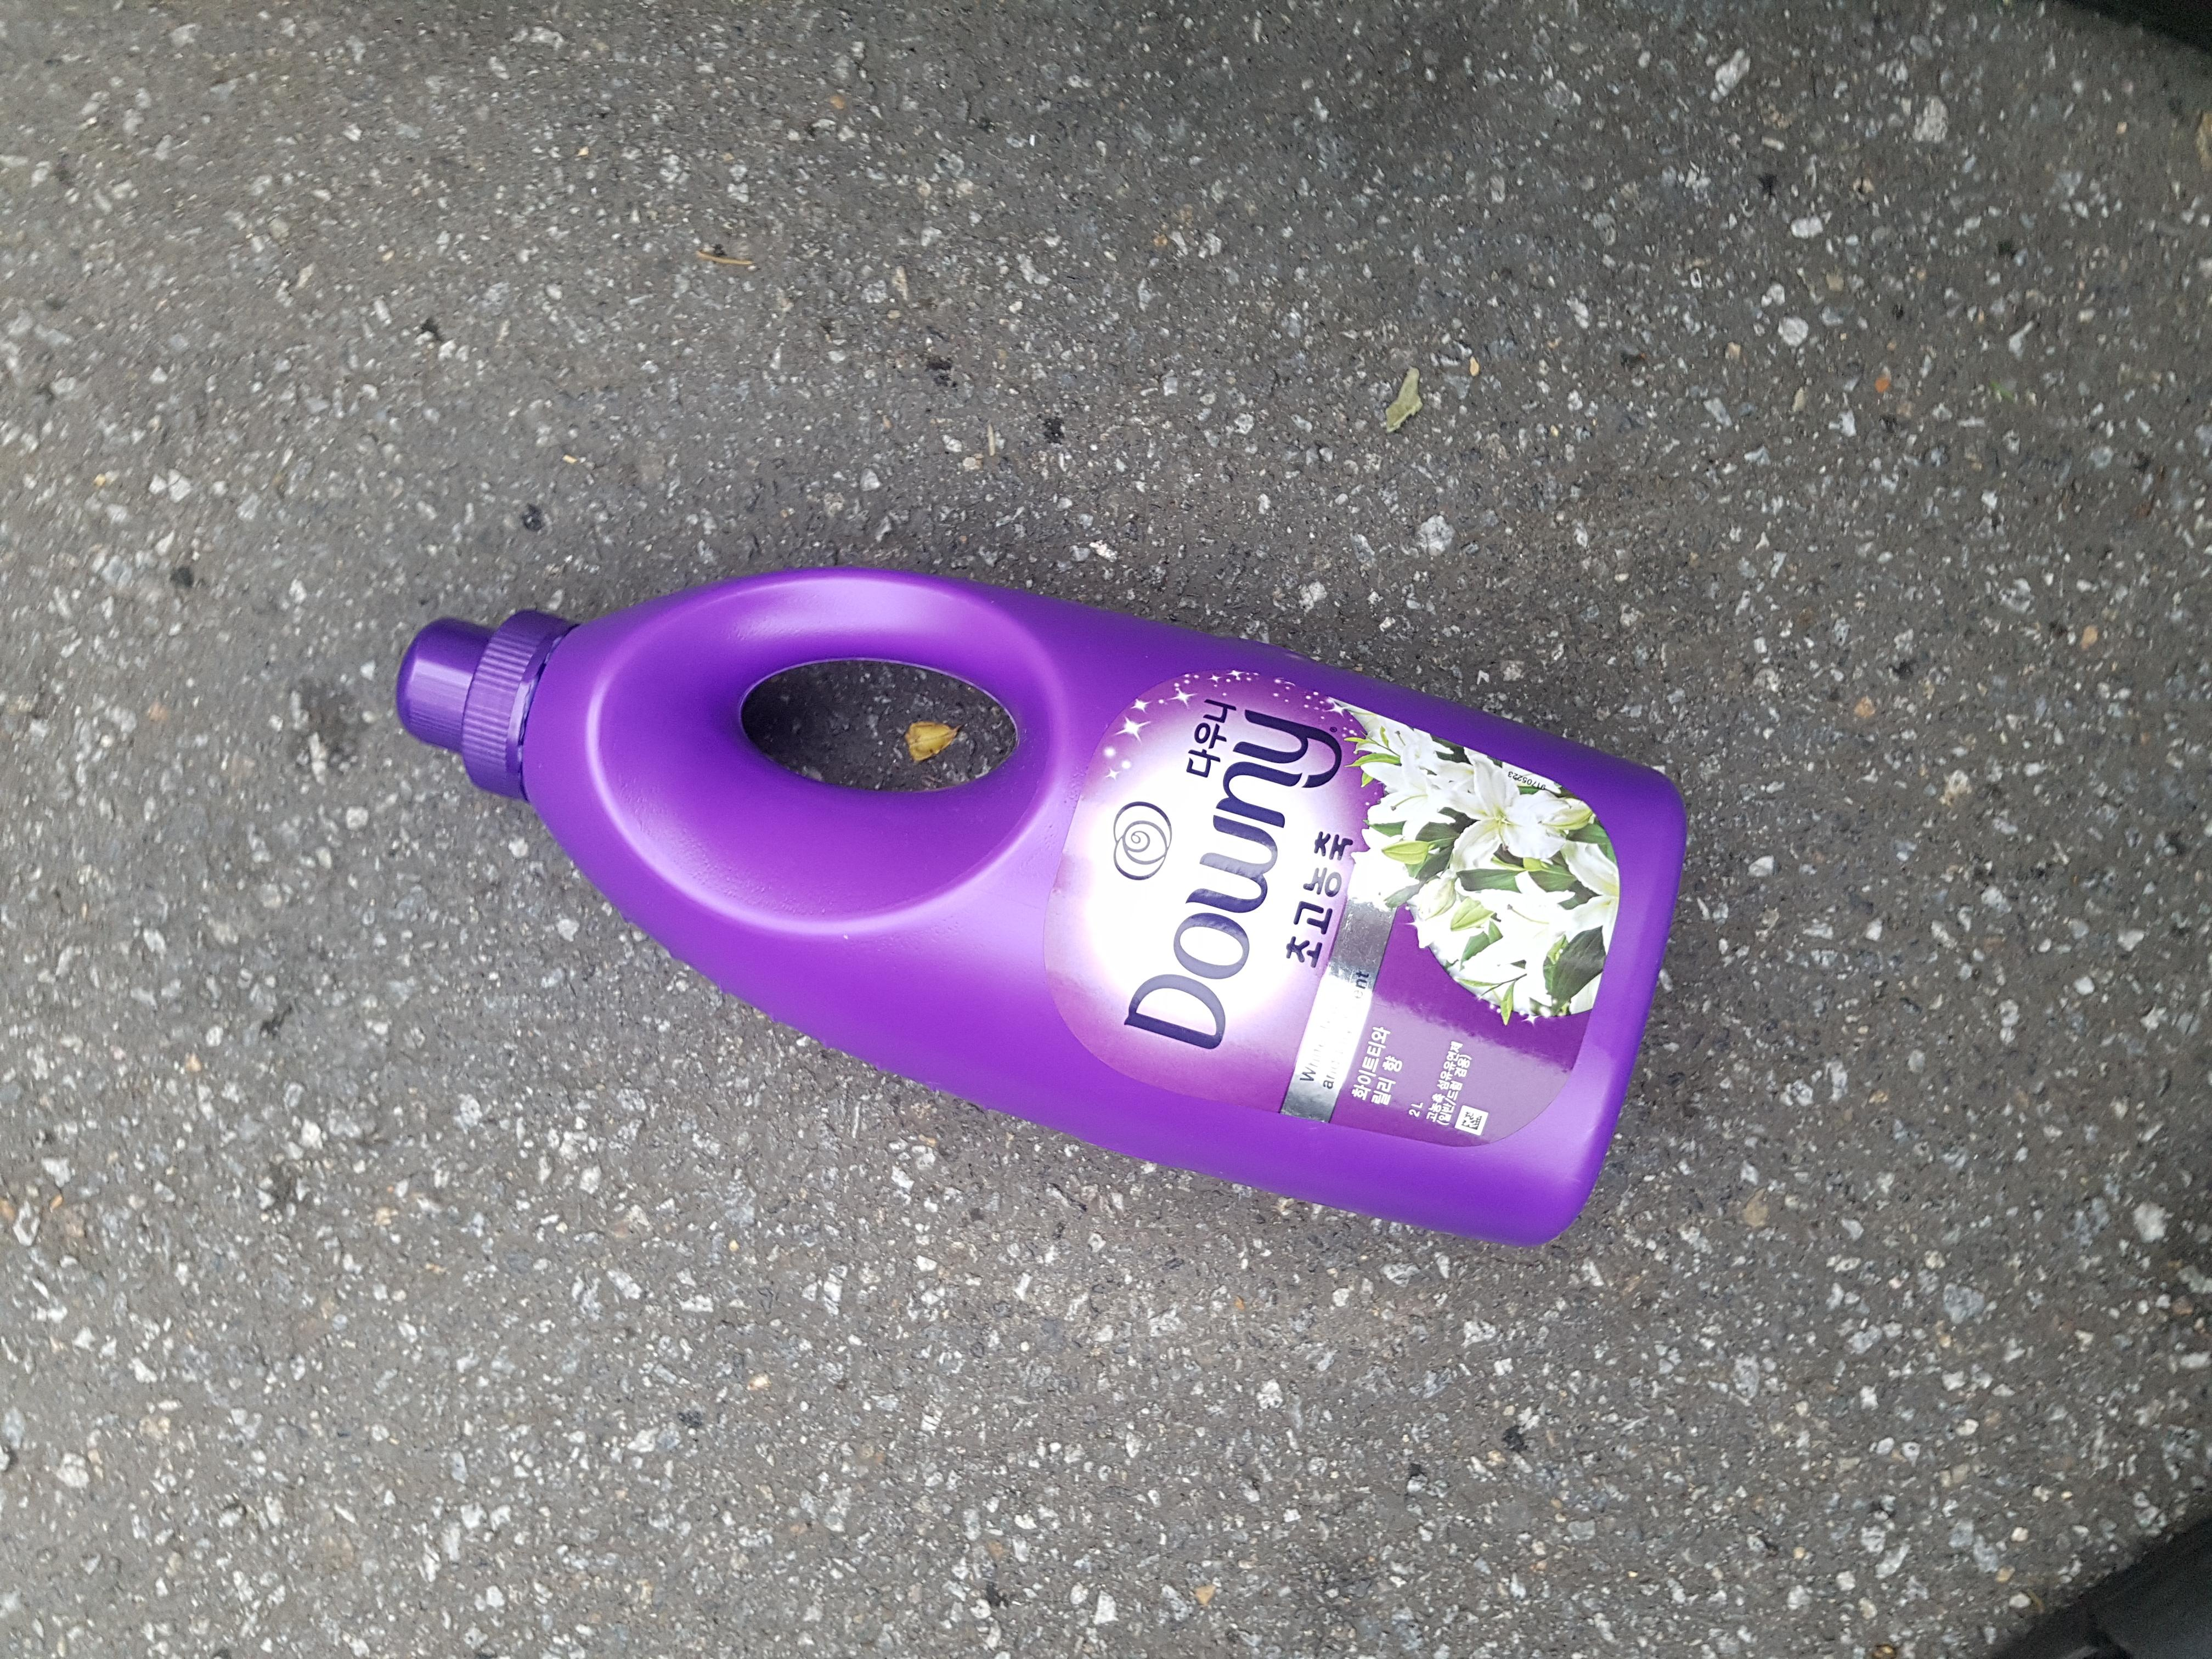bottle: (587, 254, 1500, 1307)
